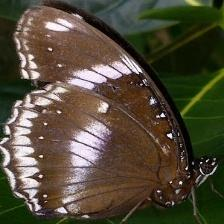butterfly: (0, 1, 218, 220)
